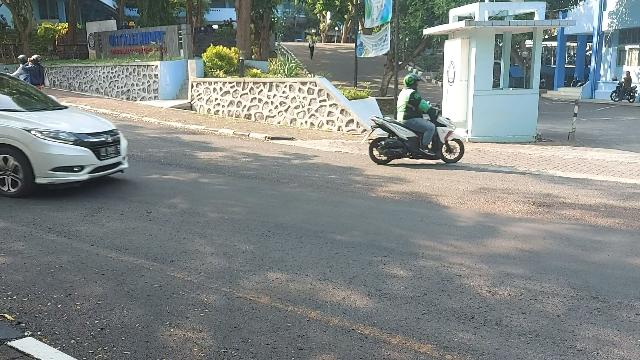helm: (405, 74, 428, 90)
motor: (361, 102, 465, 166)
